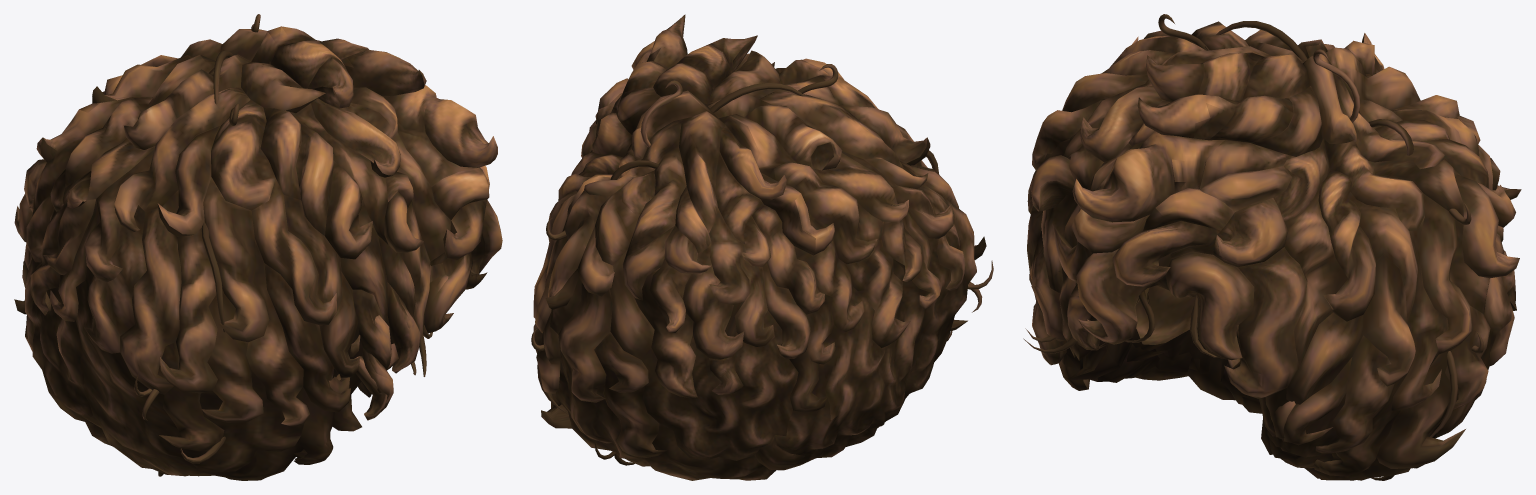
File: Cacheado_1.glb
The picture shows the model from 3 angles, left to right: view 1: azimuth 30°, elevation 25°; view 2: azimuth 150°, elevation 25°; view 3: azimuth 270°, elevation 25°; orthographic projection. The views are drawn at different scales.
Visible parts, largest first — view 1: Jort_Hair_mesh; view 2: Jort_Hair_mesh; view 3: Jort_Hair_mesh.
Boxes of the visible parts, x1,y1,x2,y2 form: Jort_Hair_mesh: (14,14,502,480); Jort_Hair_mesh: (531,14,993,480); Jort_Hair_mesh: (1023,14,1521,480).
Size of the model in its own units: 0.0445 by 0.0436 by 0.0467.
1 material, 1 textured.
